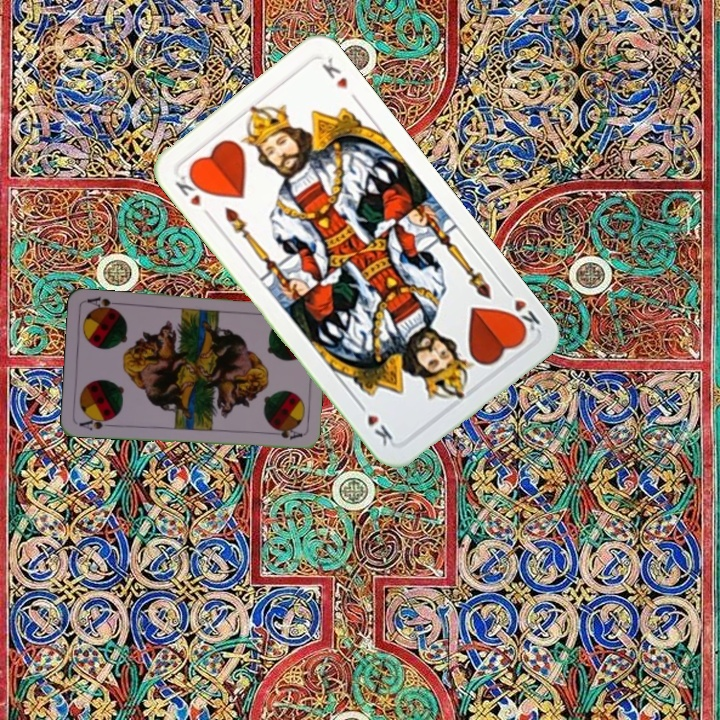HK: (500, 282, 543, 338), (171, 168, 209, 209)
SA: (75, 413, 115, 432)
